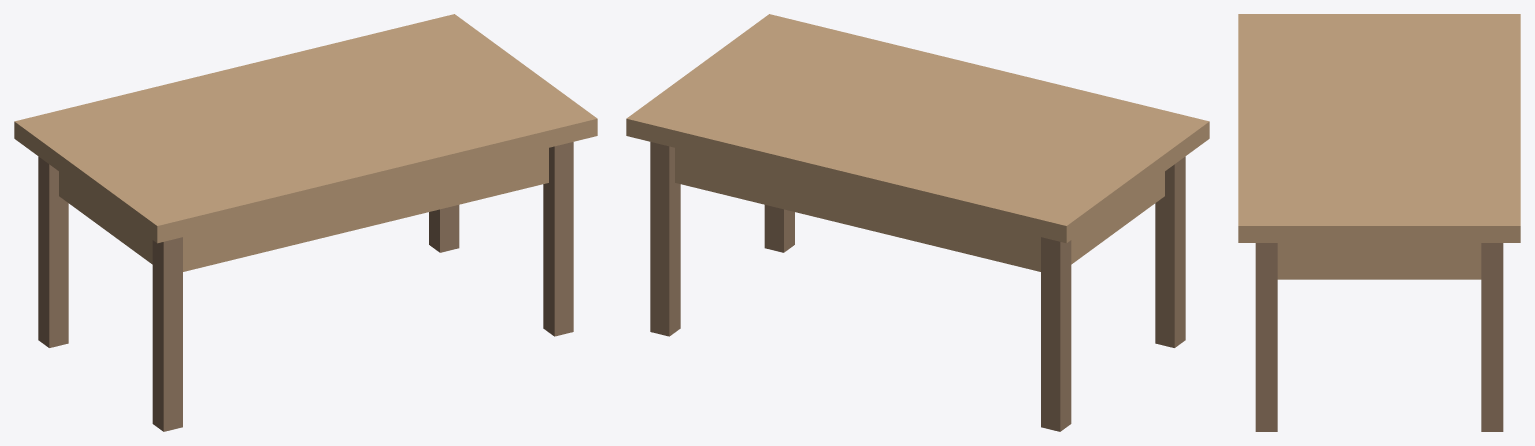
File: table.glb
3 renders of one model, left to right at view 1: azimuth 30°, elevation 25°; view 2: azimuth 150°, elevation 25°; view 3: azimuth 270°, elevation 25°, orthographic.
Parts seen in each view (by area): view 1: table_0, table_1, table_3, table_5, table_2, table_4; view 2: table_0, table_1, table_2, table_4, table_3, table_5; view 3: table_0, table_1, table_4, table_5.
Part boxes in pixels (x1,y1,x2,y2): table_0: [14, 14, 597, 243]; table_1: [59, 148, 548, 271]; table_3: [152, 237, 182, 431]; table_5: [543, 142, 573, 336]; table_2: [38, 156, 68, 347]; table_4: [429, 205, 459, 252]; table_0: [626, 14, 1209, 243]; table_1: [675, 148, 1164, 271]; table_2: [1041, 237, 1071, 431]; table_4: [650, 142, 680, 336]; table_3: [1155, 156, 1185, 347]; table_5: [764, 205, 794, 252]; table_0: [1238, 14, 1520, 242]; table_1: [1277, 243, 1481, 279]; table_4: [1481, 243, 1503, 431]; table_5: [1255, 243, 1277, 431].
Size of the model in its own units: 1.6 by 0.75 by 0.9.
